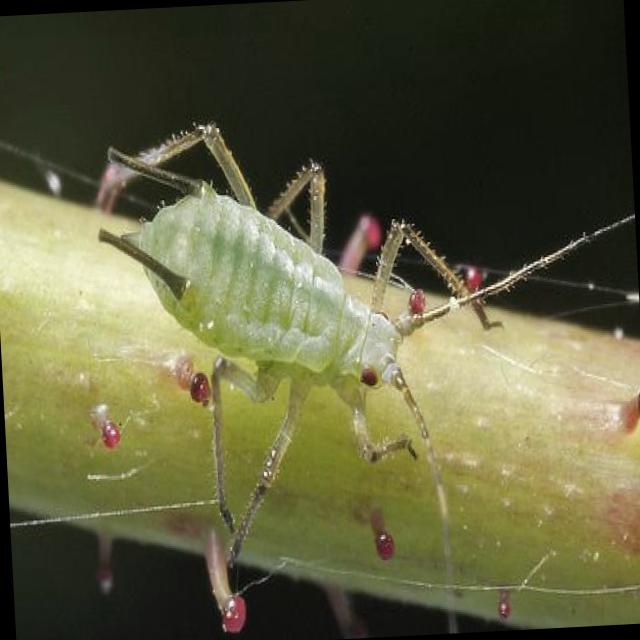Aphids: (94, 112, 547, 560)
